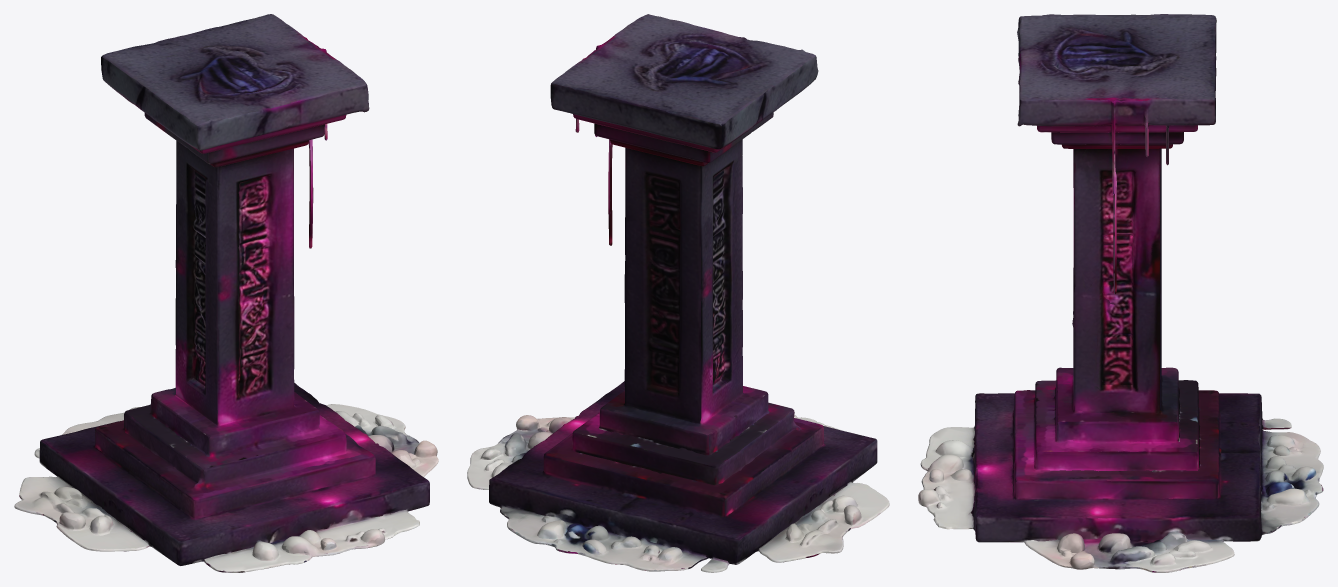
File: support-column-generated-2026-05-17T18-48-00-875Z.high.glb
3 renders of one model, left to right at view 1: azimuth 30°, elevation 25°; view 2: azimuth 150°, elevation 25°; view 3: azimuth 270°, elevation 25°, orthographic.
Visible parts, largest first — view 1: temp_mesh.ply; view 2: temp_mesh.ply; view 3: temp_mesh.ply.
Part boxes in pixels (x1,y1,x2,y2): temp_mesh.ply: [14, 14, 438, 572]; temp_mesh.ply: [467, 14, 889, 572]; temp_mesh.ply: [918, 14, 1323, 572].
Bounding box in the file's own units: 1.86 × 1.97 × 1.71.
1 material, 1 textured.
